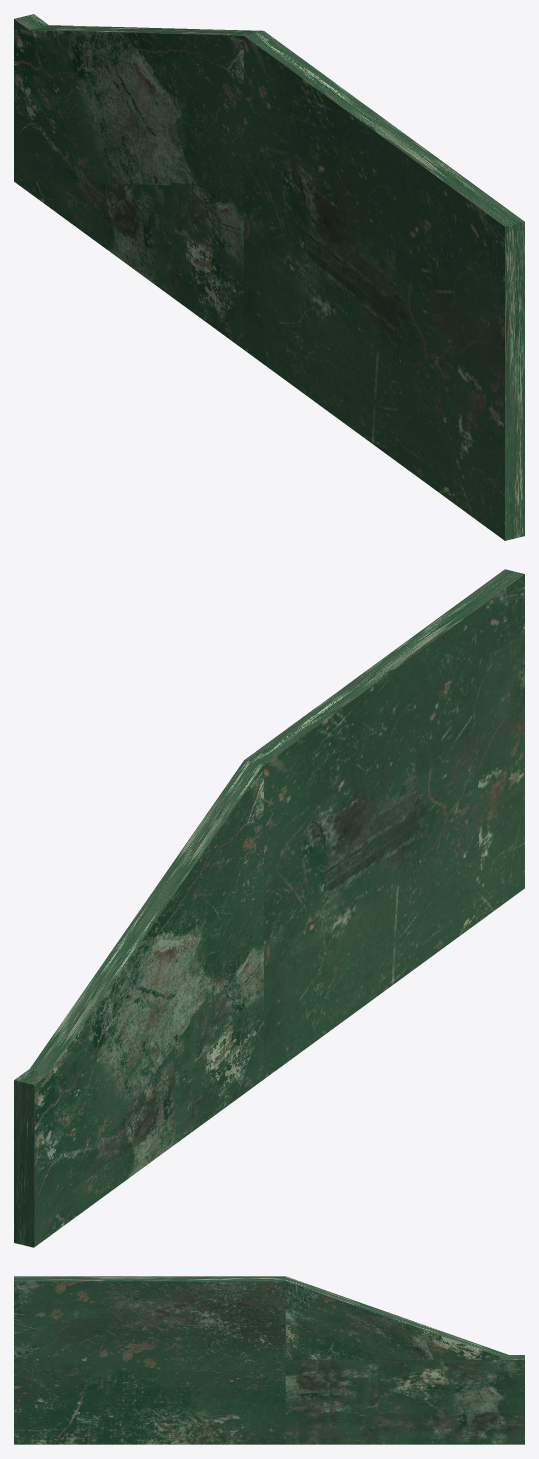
File: puetos_de mercado.glb
3 renders of one model, top to bottom at view 1: azimuth 30°, elevation 25°; view 2: azimuth 150°, elevation 25°; view 3: azimuth 270°, elevation 25°, orthographic. The views are drawn at different scales.
Parts seen in each view (by area): view 1: Cube; view 2: Cube; view 3: Cube.
Part boxes in pixels (x1,y1,x2,y2): Cube: (14,14,524,540); Cube: (14,569,524,1247); Cube: (14,1276,524,1444).
Size of the model in its own units: 0.2254 by 3.33 by 9.43.
Materials: 1 (1 with a texture image).
